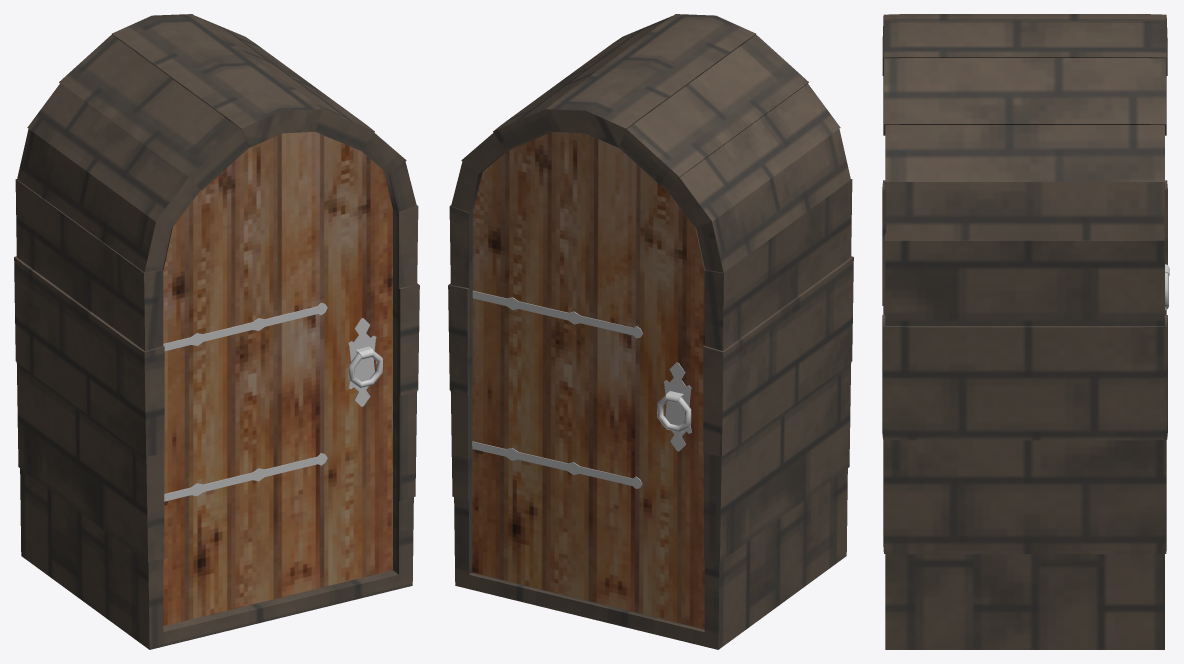
The model's file is Porte Unwraping.fbx.
The picture shows the model from 3 angles, left to right: view 1: azimuth 30°, elevation 25°; view 2: azimuth 150°, elevation 25°; view 3: azimuth 270°, elevation 25°; orthographic projection. The views are drawn at different scales.
Parts seen in each view (by area): view 1: Object002, Torus001, Box005, Box006, Box004; view 2: Object002, Torus002, Box008, Box009, Box007; view 3: Object002.
Boxes of the visible parts, bbox=[...] form: Object002: bbox=[14, 14, 419, 649]; Torus001: bbox=[163, 132, 392, 625]; Box005: bbox=[163, 303, 327, 351]; Box006: bbox=[164, 453, 327, 501]; Box004: bbox=[348, 318, 376, 406]; Object002: bbox=[448, 14, 853, 649]; Torus002: bbox=[472, 132, 704, 629]; Box008: bbox=[472, 290, 642, 338]; Box009: bbox=[472, 441, 642, 488]; Box007: bbox=[663, 362, 691, 451]; Object002: bbox=[882, 14, 1167, 649].
Size of the model in its own units: 170 by 299 by 141.
